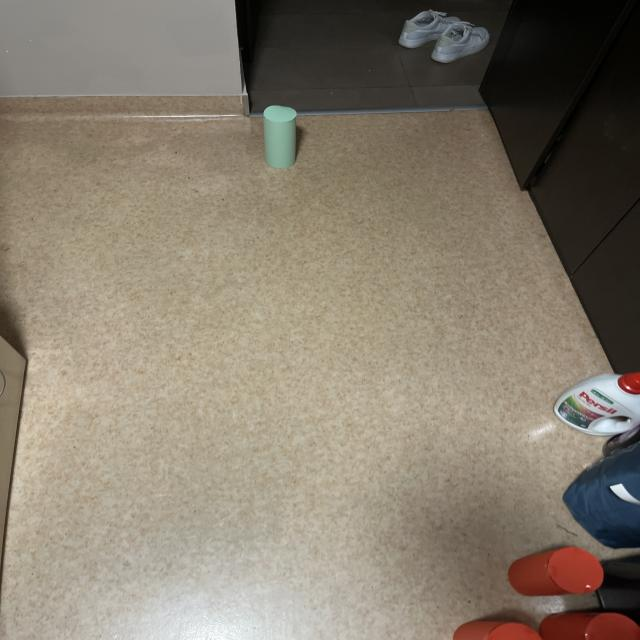meta: (263, 106, 297, 168)
